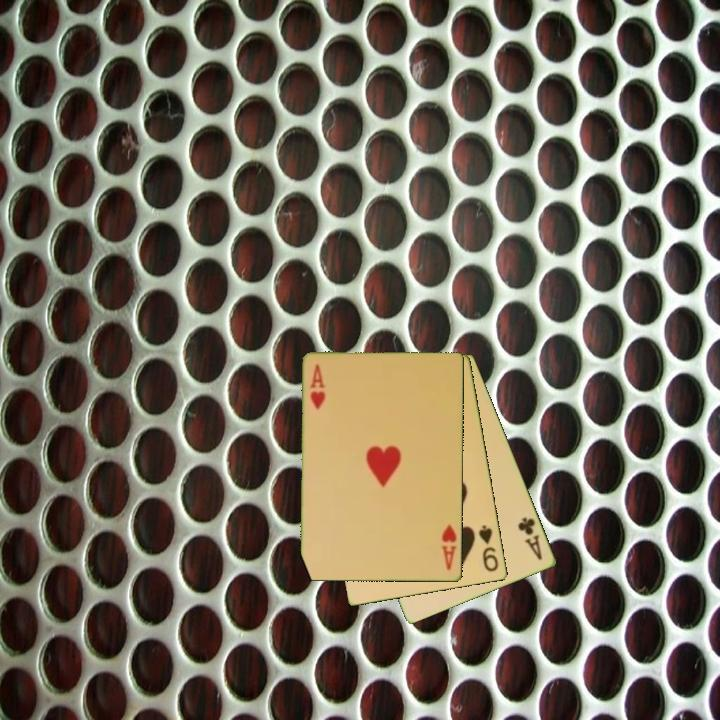9s: (475, 522, 502, 575)
Ac: (515, 514, 545, 563)
Ah: (438, 521, 459, 573), (307, 360, 328, 412)
